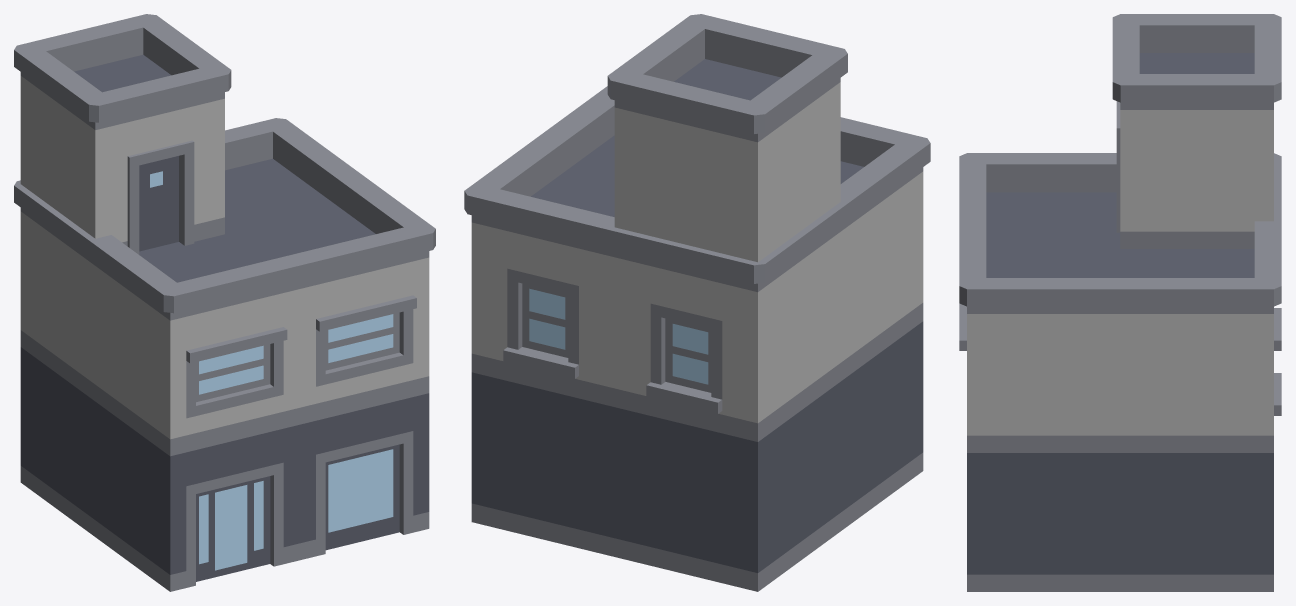
File: building_small_f.glb
The picture shows the model from 3 angles, left to right: view 1: azimuth 30°, elevation 25°; view 2: azimuth 150°, elevation 25°; view 3: azimuth 270°, elevation 25°; orthographic projection. The views are drawn at different scales.
Parts seen in each view (by area): view 1: small_buildingF; view 2: small_buildingF; view 3: small_buildingF.
Boxes of the visible parts, bbox=[...] form: small_buildingF: bbox=[14, 14, 435, 591]; small_buildingF: bbox=[464, 14, 930, 591]; small_buildingF: bbox=[959, 14, 1281, 591].
Bounding box in the file's own units: 6.72 × 10.24 × 6.72.
